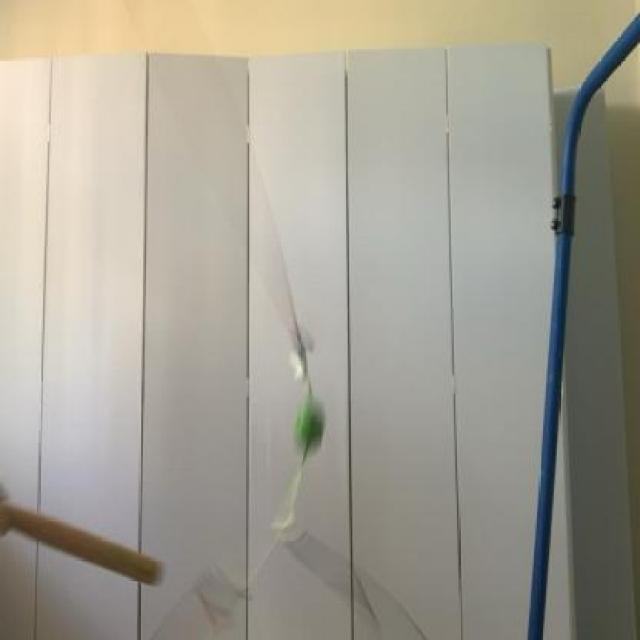baseball: (289, 384, 340, 474)
